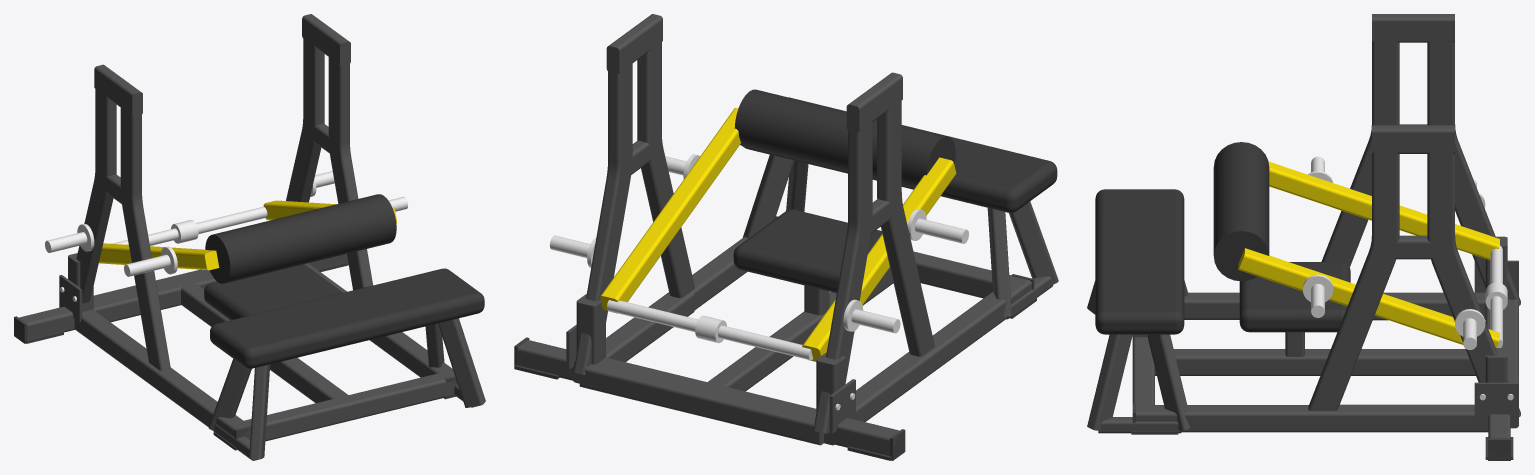
3 views of the same model, side by side, from view 1: azimuth 30°, elevation 25°; view 2: azimuth 150°, elevation 25°; view 3: azimuth 270°, elevation 25° (orthographic). The views are drawn at different scales.
Parts seen in each view (by area): view 1: side_leg_tube (×4), base, bench_pad, lever_roller, bench_leg (×4), seat_pad, side_cap (×2), lever_bar (×2), lever_support, lever_axle, frame, lever_horn (+4 smaller); view 2: side_leg_tube (×4), base, lever_bar (×2), lever_roller, side_link, seat_pad, bench_leg (×4), bench_pad, lever_support, frame, side_cap (×2), lever_axle (+6 smaller); view 3: side_leg_tube (×4), base, bench_pad, lever_bar (×2), lever_roller, seat_pad, bench_leg (×2), side_cap (×2), frame, gusset (×2), lever_support, side_link (+6 smaller).
Part boxes in pixels (x1,y1,x2,y2): side_leg_tube (×4): [76, 37, 373, 370]; base: [14, 254, 455, 441]; bench_pad: [210, 268, 484, 368]; lever_roller: [205, 194, 396, 283]; bench_leg (×4): [208, 318, 485, 459]; seat_pad: [204, 264, 342, 320]; side_cap (×2): [94, 14, 350, 116]; lever_bar (×2): [99, 200, 396, 270]; lever_support: [68, 253, 216, 322]; lever_axle: [112, 206, 267, 245]; frame: [91, 123, 344, 351]; lever_horn: [124, 246, 177, 276]; side_leg_tube (×4): [573, 31, 934, 433]; base: [517, 218, 1031, 456]; lever_bar (×2): [600, 108, 956, 361]; lever_roller: [734, 89, 955, 187]; side_link: [579, 362, 823, 445]; seat_pad: [733, 209, 882, 293]; bench_leg (×4): [743, 154, 1058, 316]; bench_pad: [743, 97, 1057, 212]; lever_support: [576, 294, 845, 416]; frame: [606, 140, 912, 404]; side_cap (×2): [606, 14, 902, 132]; lever_axle: [607, 300, 813, 360]; side_leg_tube (×4): [1308, 31, 1520, 419]; base: [1132, 292, 1510, 460]; bench_pad: [1095, 189, 1184, 334]; lever_bar (×2): [1238, 161, 1499, 347]; lever_roller: [1213, 142, 1269, 281]; seat_pad: [1239, 262, 1350, 332]; bench_leg (×2): [1087, 334, 1190, 430]; side_cap (×2): [1372, 14, 1454, 153]; frame: [1340, 124, 1485, 405]; gusset (×2): [1474, 260, 1518, 419]; lever_support: [1485, 236, 1507, 382]; side_link: [1504, 299, 1518, 428].
Size of the model in its own units: 1.5 by 1.2 by 1.56.
